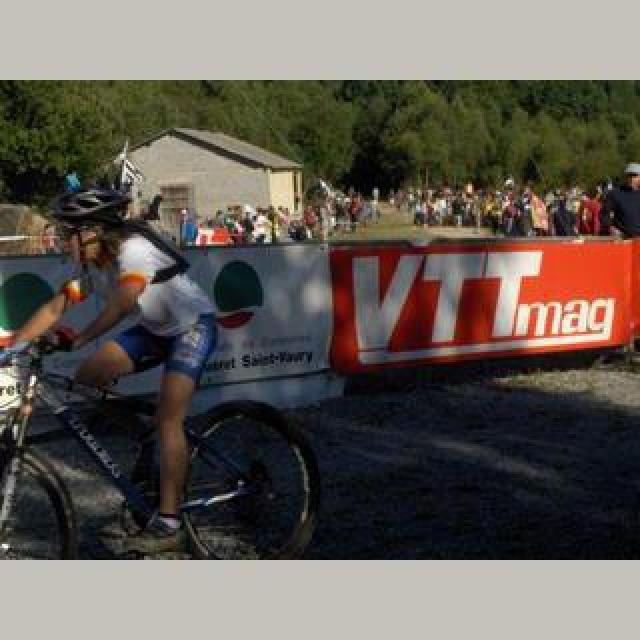MC-Bike: (4, 198, 224, 546)
Person: (4, 324, 320, 560)
